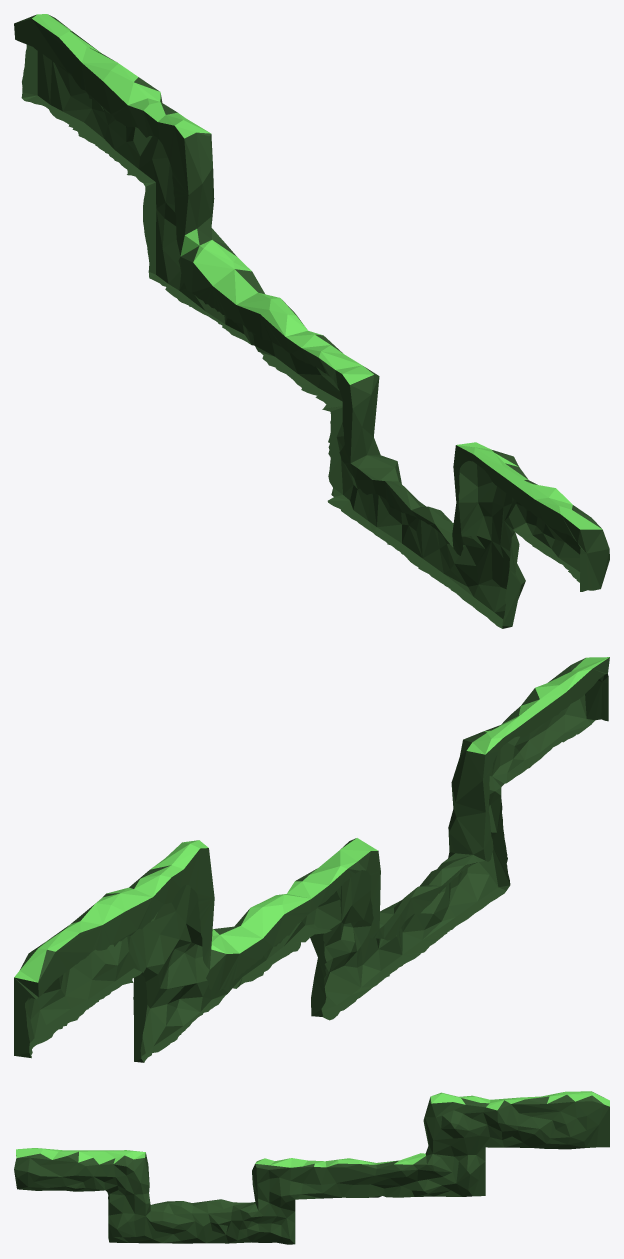
Rendered from disSomeOrganicShit.fbx.
3 renders of one model, top to bottom at view 1: azimuth 30°, elevation 25°; view 2: azimuth 150°, elevation 25°; view 3: azimuth 270°, elevation 25°, orthographic. The views are drawn at different scales.
Visible parts, largest first — view 1: Cube; view 2: Cube; view 3: Cube.
Part boxes in pixels (bbox=[...]): Cube: bbox=[14, 14, 609, 628]; Cube: bbox=[14, 657, 609, 1062]; Cube: bbox=[14, 1091, 609, 1244].
Size of the model in its own units: 815 by 4493 by 16515.
